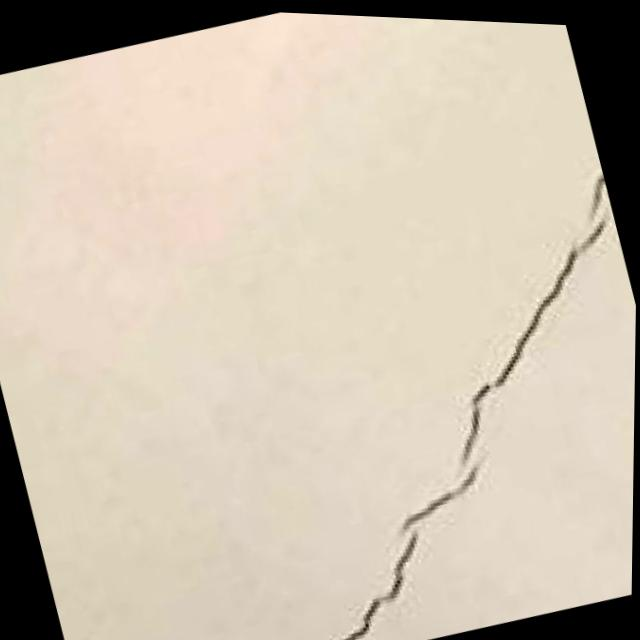Crack: (204, 118, 639, 640)
